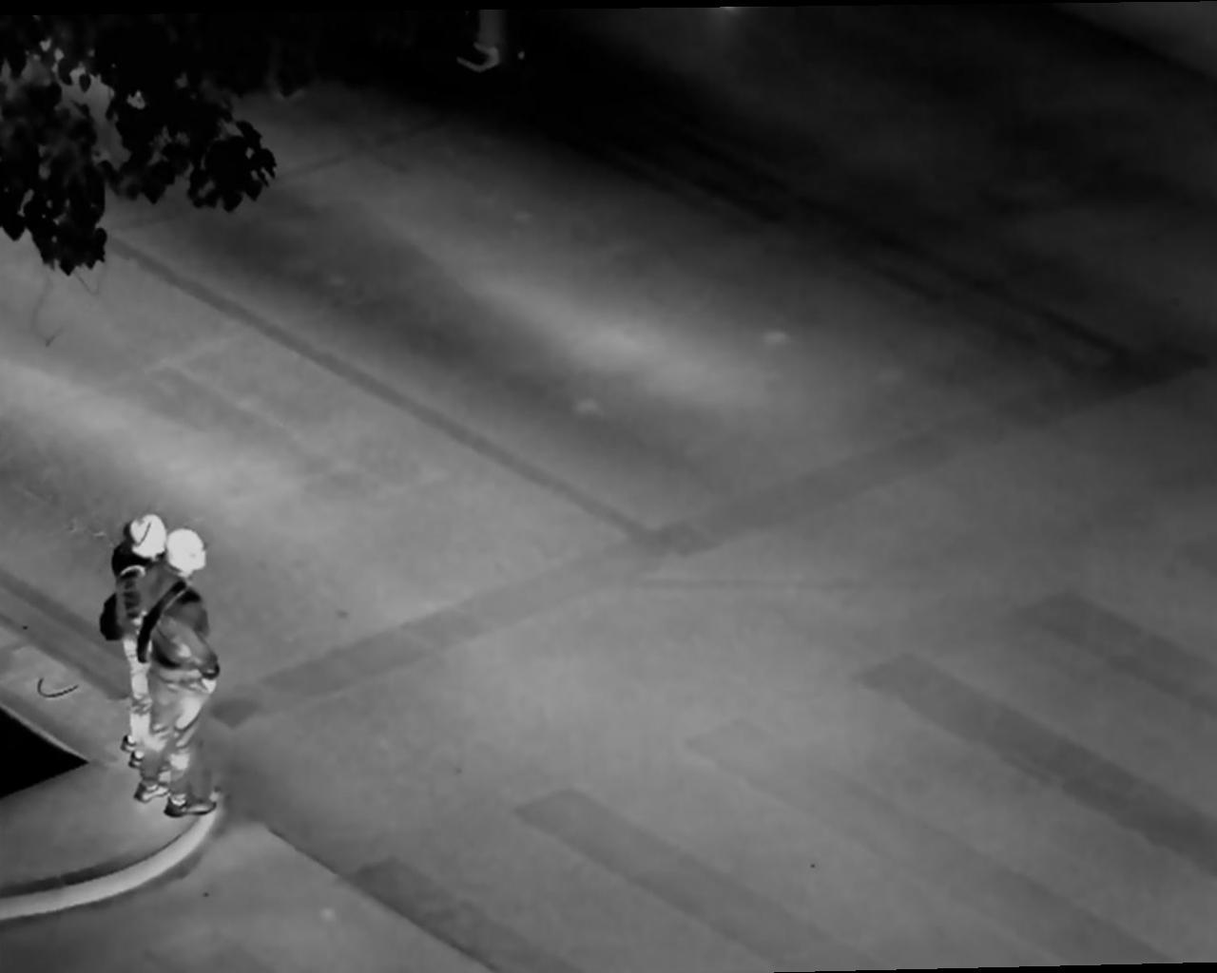person: (154, 529, 229, 817), (101, 505, 166, 766)
